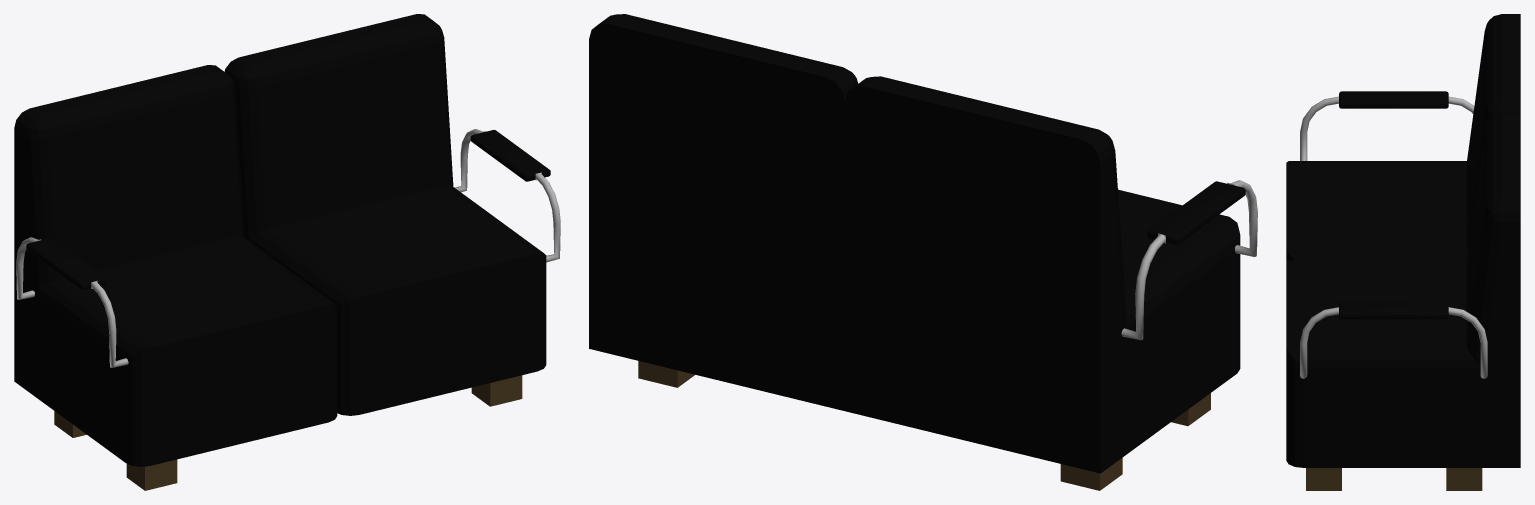
3 renders of one model, left to right at view 1: azimuth 30°, elevation 25°; view 2: azimuth 150°, elevation 25°; view 3: azimuth 270°, elevation 25°, orthographic. The views are drawn at different scales.
Visible parts, largest first — view 1: MC-26; view 2: MC-26; view 3: MC-26.
Boxes of the visible parts, left/top/right/bottom form: MC-26: left=14, top=14, right=560, bottom=490; MC-26: left=589, top=14, right=1257, bottom=490; MC-26: left=1286, top=14, right=1520, bottom=490.
Size of the model in its own units: 146 by 90 by 65.
